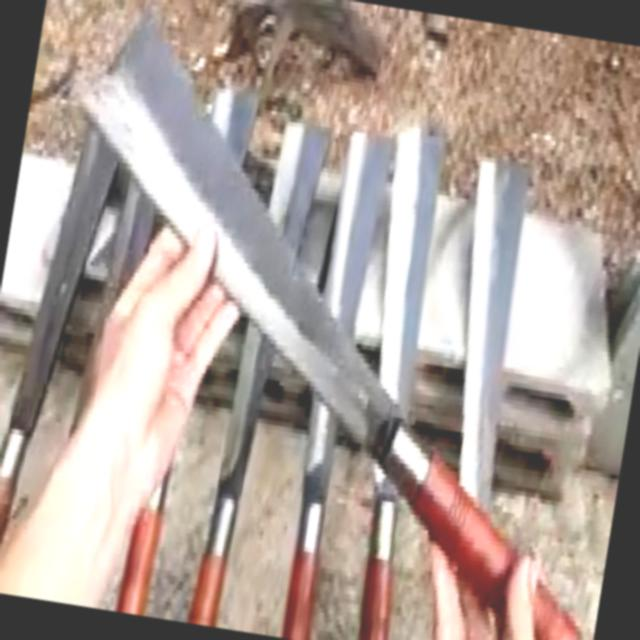eto: (82, 6, 586, 640)
